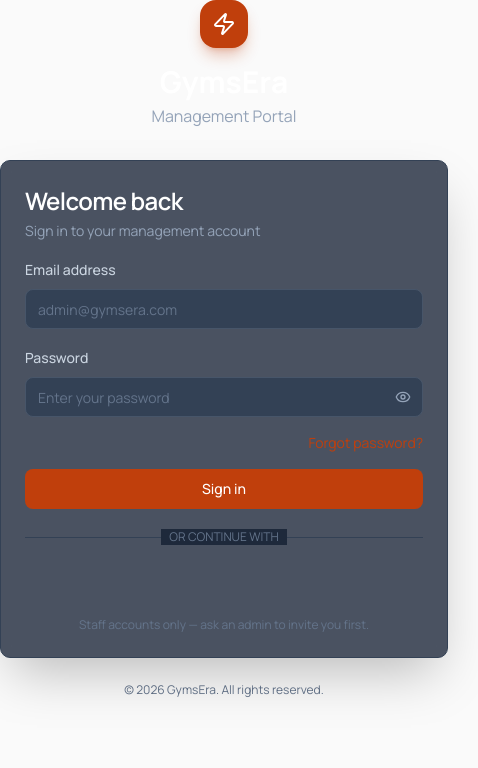
CMS login — portal access follows permissions, not the account role (NEW-43) › refuses a plain member (no team role, no ownership) and signs them out again
In the field labelled "Email address": (224, 309) 25,289 -> 423,329, type "person@example.test"
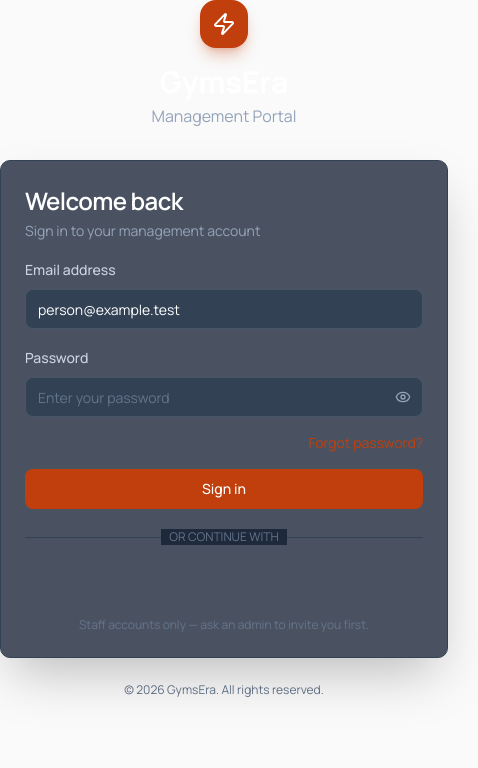
In the password field with placeholder "Enter your password": (224, 397) 25,377 -> 423,417, type "placeholder-pass"
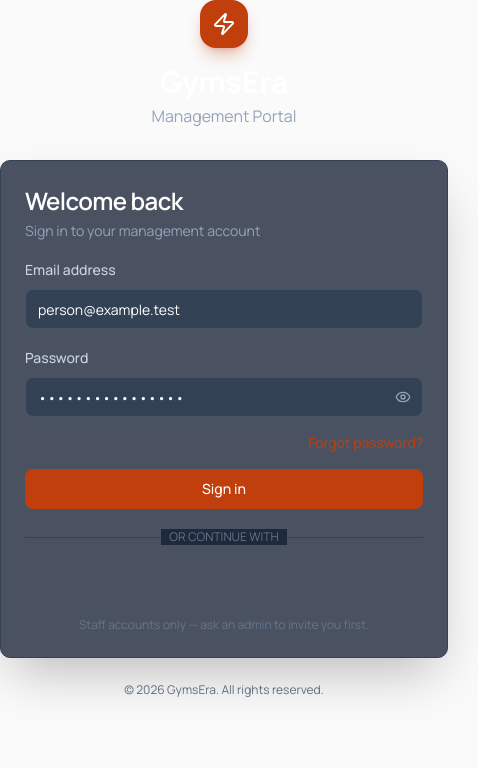
Click the button "Sign in": (224, 489) 25,469 -> 423,509
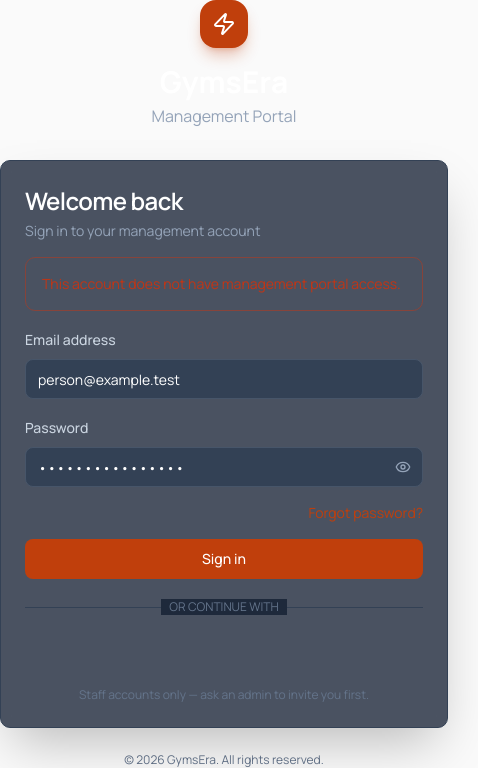
Check: the text "This account does not have management portal access." is shown, box 42,274 -> 406,294
